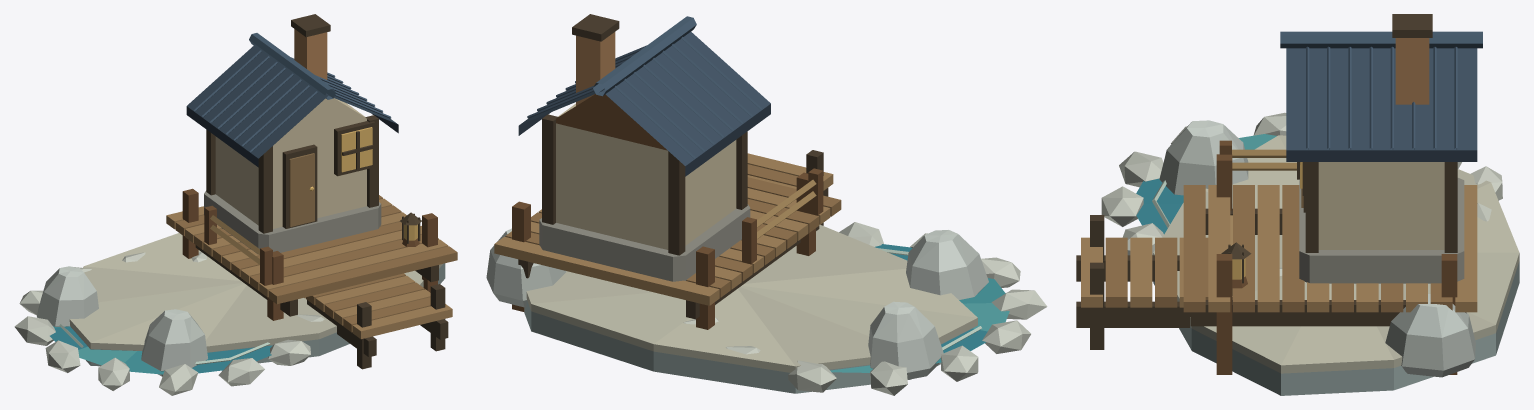
The picture shows the model from 3 angles, left to right: view 1: azimuth 30°, elevation 25°; view 2: azimuth 150°, elevation 25°; view 3: azimuth 270°, elevation 25°; orthographic projection. The views are drawn at different scales.
Parts seen in each view (by area): view 1: S17_盐湖小站; view 2: S17_盐湖小站; view 3: S17_盐湖小站.
Boxes of the visible parts, left/top/right/bottom form: S17_盐湖小站: left=14, top=14, right=457, bottom=395; S17_盐湖小站: left=486, top=14, right=1047, bottom=395; S17_盐湖小站: left=1076, top=14, right=1519, bottom=395.
Bounding box in the file's own units: 4.66 × 2.71 × 3.41.
